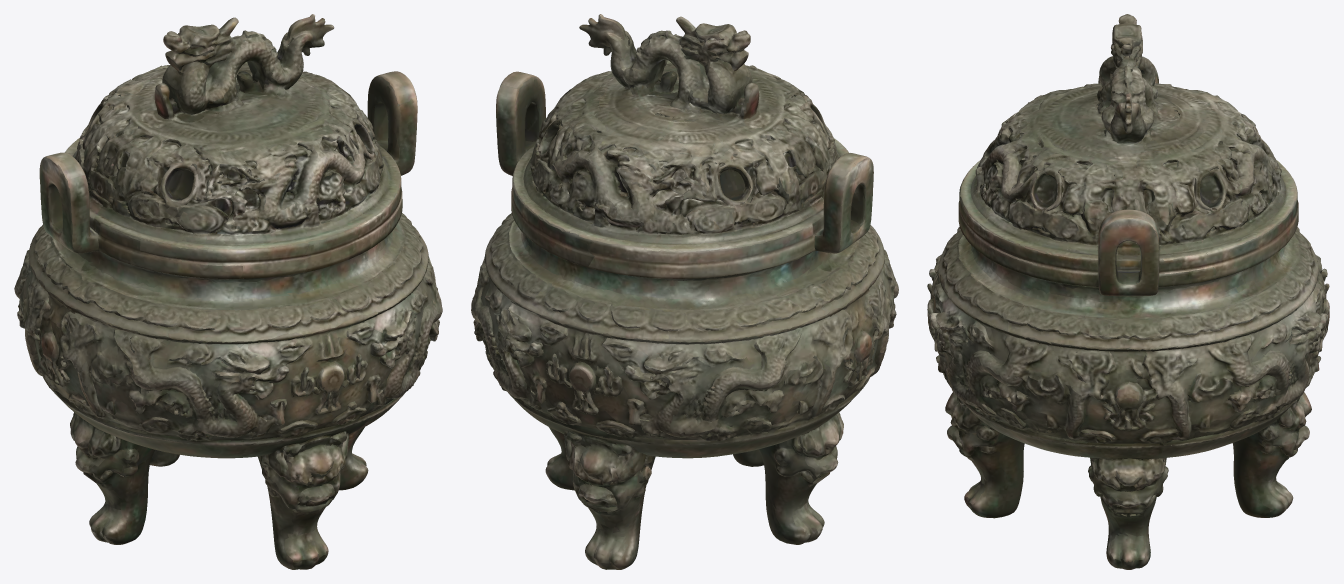
Rendered from bronze-censer.glb.
3 views of the same model, side by side, from view 1: azimuth 30°, elevation 25°; view 2: azimuth 150°, elevation 25°; view 3: azimuth 270°, elevation 25° (orthographic). The views are drawn at different scales.
Parts seen in each view (by area): view 1: geometry_0; view 2: geometry_0; view 3: geometry_0.
Boxes of the visible parts, box(x1,y1,x2,y2) form: geometry_0: box(14, 14, 442, 569); geometry_0: box(471, 14, 898, 569); geometry_0: box(927, 14, 1329, 569).
Size of the model in its own units: 0.3267 by 0.42 by 0.3267.
1 material, 1 textured.
